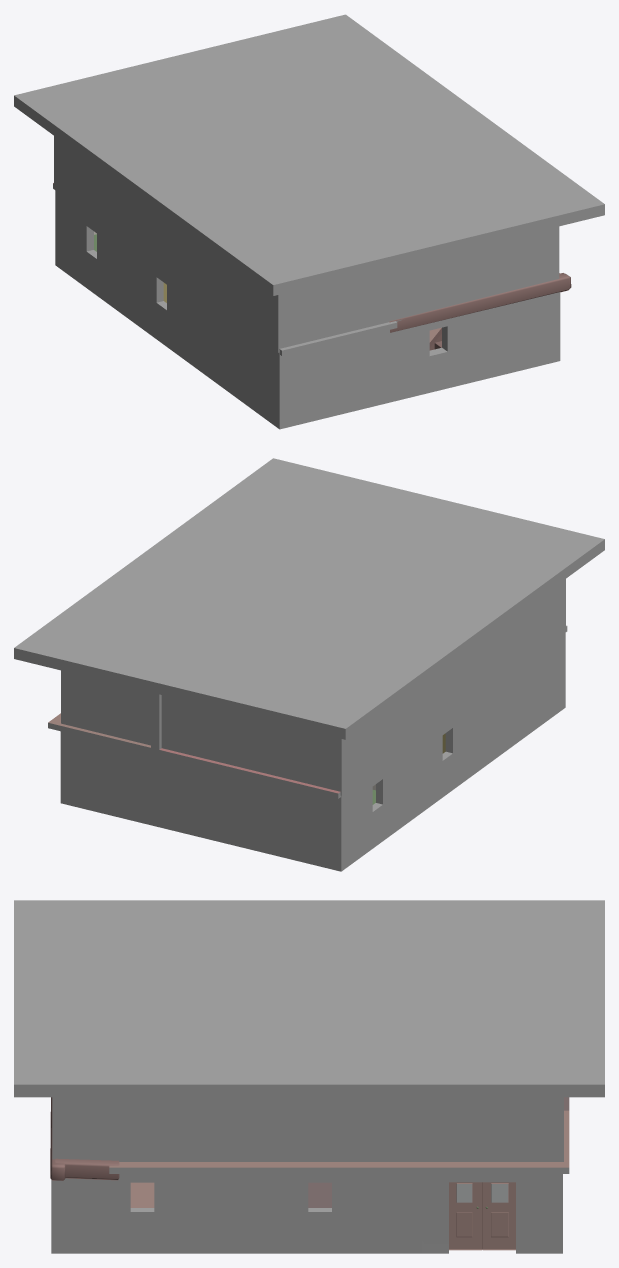
The model's file is House_111.fbx.
3 views of the same model, one above another, from view 1: azimuth 30°, elevation 25°; view 2: azimuth 150°, elevation 25°; view 3: azimuth 270°, elevation 25° (orthographic). The views are drawn at different scales.
Visible parts, largest first — view 1: pCube79, polySurface1, polySurface2, pCube77, pCube25; view 2: pCube79, polySurface1, polySurface2, pCube25; view 3: pCube79, polySurface1, polySurface2, pCube25, pCube82, pCube78, pPlane9, pCube77.
Part boxes in pixels (x1,y1,x2,y2): pCube79: [14, 14, 604, 295]; polySurface1: [55, 190, 560, 429]; polySurface2: [54, 136, 559, 352]; pCube77: [389, 273, 571, 332]; pCube25: [53, 183, 397, 355]; pCube79: [14, 458, 604, 739]; polySurface1: [60, 632, 565, 871]; polySurface2: [61, 579, 565, 795]; pCube25: [48, 625, 567, 798]; pCube79: [14, 900, 604, 1097]; polySurface1: [51, 1174, 562, 1253]; polySurface2: [52, 1097, 563, 1161]; pCube25: [109, 1097, 569, 1173]; pCube82: [449, 1182, 515, 1250]; pCube78: [55, 1158, 119, 1180]; pPlane9: [130, 1182, 154, 1207]; pCube77: [50, 1097, 65, 1180].
Size of the model in its own units: 16.49 by 8.35 by 22.32.
